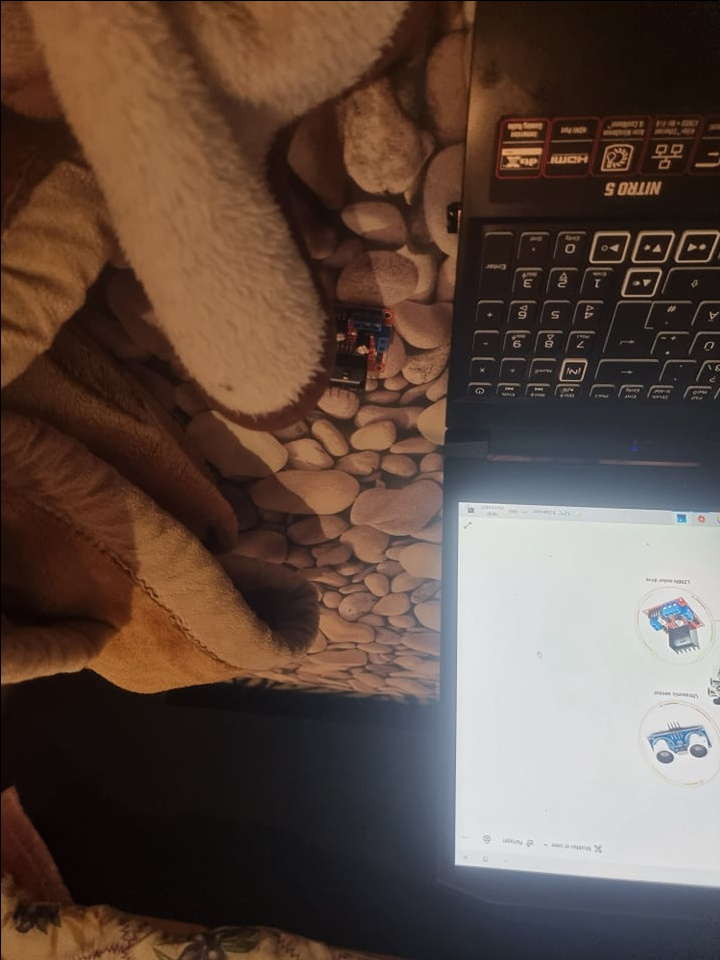MOTOR: (317, 304, 397, 399), (640, 596, 704, 651)
SENSOR: (645, 724, 711, 765)
